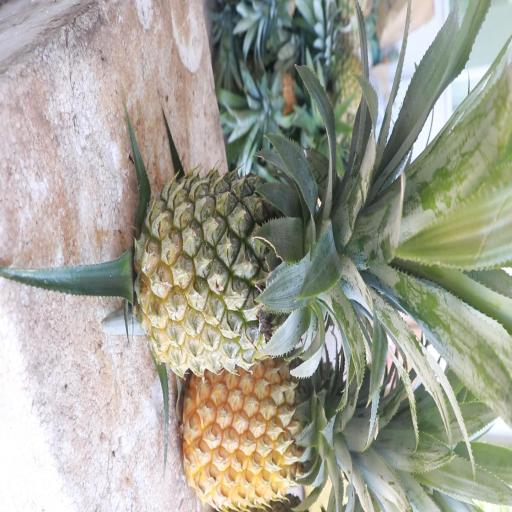------------------------------: (142, 174, 347, 375)
Pineapple - v8 v1: (185, 369, 340, 507)
